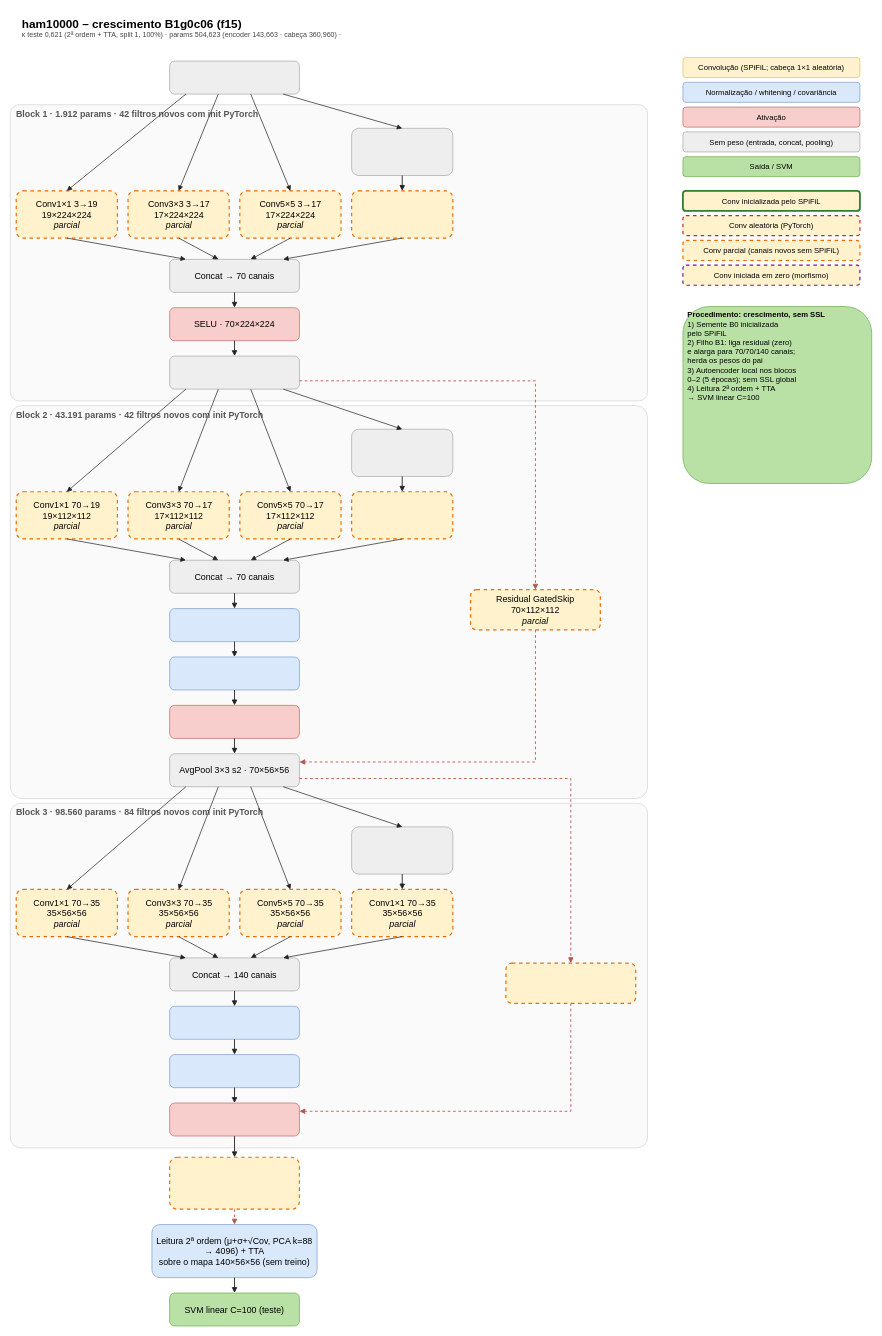
The diagram is 882 pixels wide and 1336 high, and some of its shapes have lost their labels. The shapes that lost their labels are listed below. From the top down, each one's centre as x and y in pixels, then its label:
At (234,77): "Entrada 3×224×224".
At (402,152): "MaxPool 3×3 s1 3×224×224".
At (402,214): "Conv1×1 3→17 17×224×224 parcial".
At (234,372): "MaxPool 3×3 s2 · 70×112×112".
At (402,452): "MaxPool 3×3 s1 70×112×112".
At (402,515): "Conv1×1 70→17 17×112×112 parcial".
At (234,625): "BatchNorm · 70×112×112 140 params".
At (234,673): "ZCA · 70×112×112".
At (234,721): "SELU · 70×112×112".
At (402,850): "MaxPool 3×3 s1 70×56×56".
At (570,983): "Residual Conv1×1 70→140 140×56×56 parcial".
At (234,1022): "BatchNorm · 140×56×56 280 params".
At (234,1071): "ZCA · 140×56×56".
At (234,1119): "SiLU · 140×56×56".
At (234,1183): "Cabeça Conv1×1 140→2560 · 2560×56×56 360.960 params parcial".
